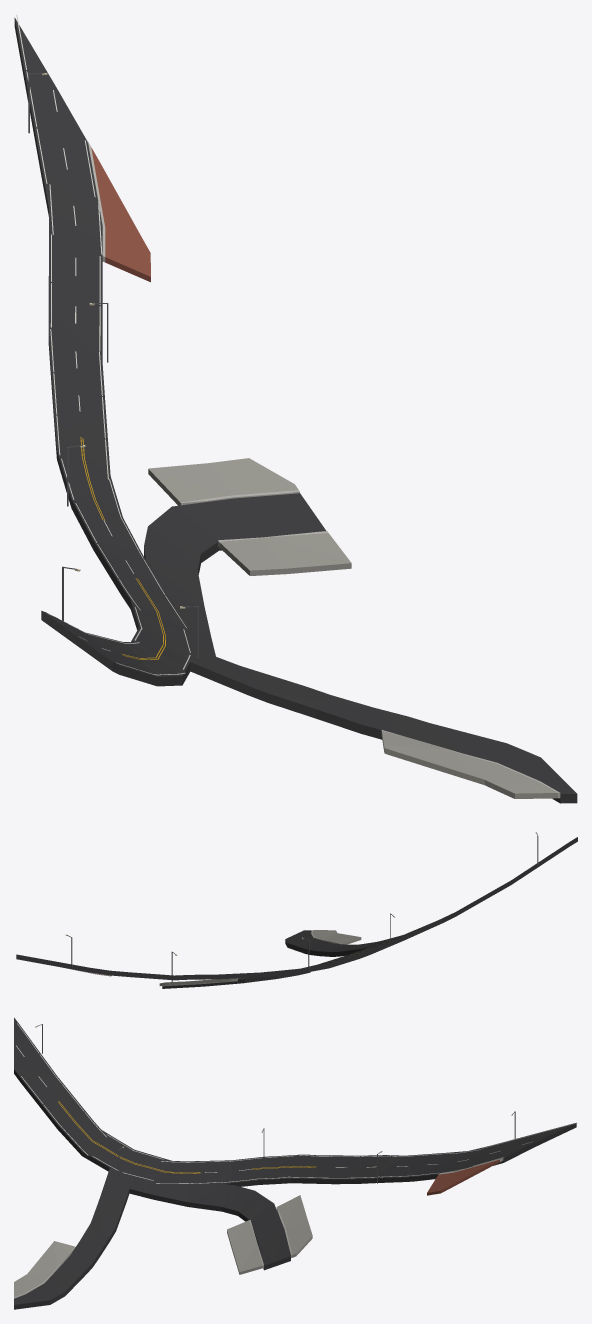
The picture shows the model from 3 angles, top to bottom: view 1: azimuth 30°, elevation 25°; view 2: azimuth 150°, elevation 25°; view 3: azimuth 270°, elevation 25°; orthographic projection. The views are drawn at different scales.
Size of the model in its own units: 71.76 by 47.67 by 130.
